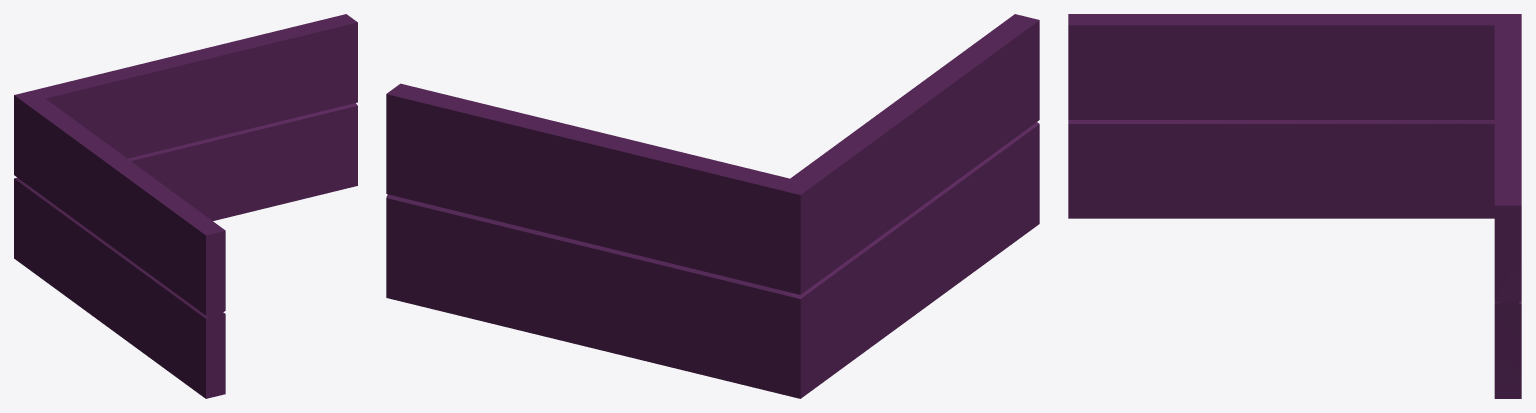
The model's file is Esquina.FBX.
The picture shows the model from 3 angles, left to right: view 1: azimuth 30°, elevation 25°; view 2: azimuth 150°, elevation 25°; view 3: azimuth 270°, elevation 25°; orthographic projection. The views are drawn at different scales.
Parts seen in each view (by area): view 1: Esquina_LP; view 2: Esquina_LP; view 3: Esquina_LP.
Boxes of the visible parts, bbox=[...] form: Esquina_LP: bbox=[14, 14, 357, 398]; Esquina_LP: bbox=[386, 14, 1039, 398]; Esquina_LP: bbox=[1068, 14, 1521, 398].
Bounding box in the file's own units: 168 × 78.74 × 167.
